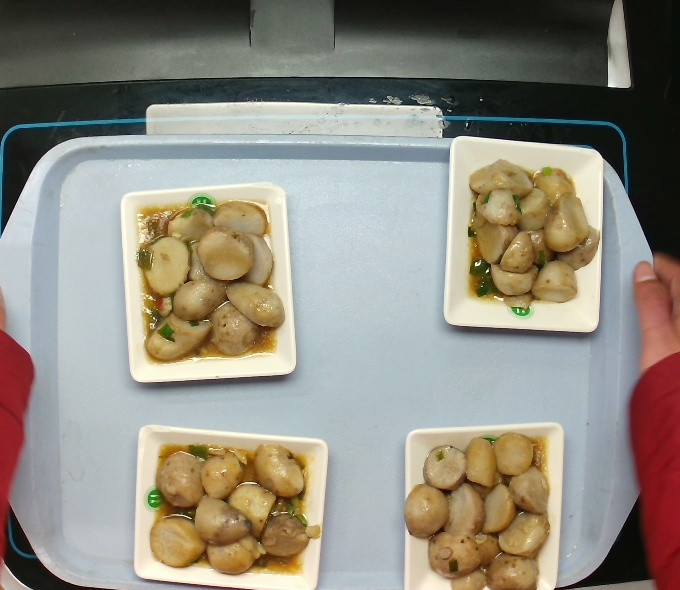wcq-YuTou: (128, 192, 292, 370), (143, 437, 326, 580), (398, 428, 557, 590), (460, 155, 608, 314)
